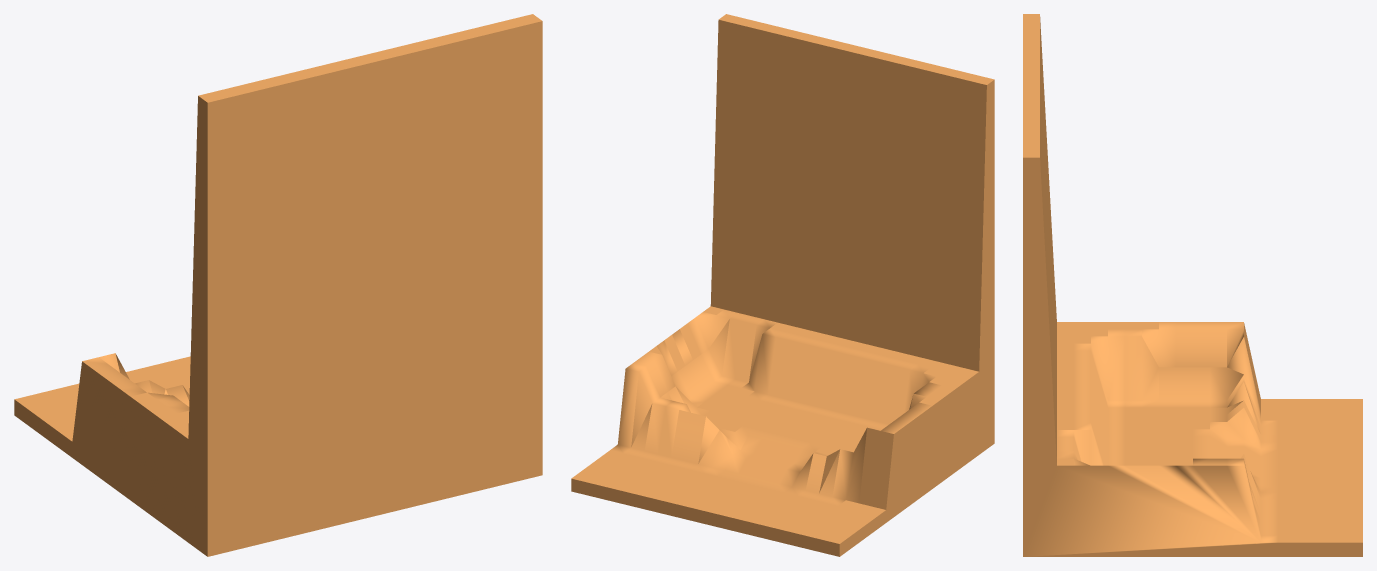
File: left1.fbx
3 views of the same model, side by side, from view 1: azimuth 30°, elevation 25°; view 2: azimuth 150°, elevation 25°; view 3: azimuth 270°, elevation 25° (orthographic). The views are drawn at different scales.
Parts seen in each view (by area): view 1: Model; view 2: Model; view 3: Model.
Boxes of the visible parts, x1=… form: Model: x1=14, y1=14, x2=542, y2=556; Model: x1=571, y1=14, x2=994, y2=556; Model: x1=1023, y1=14, x2=1362, y2=556.
Size of the model in its own units: 1000 by 1296 by 1000.
